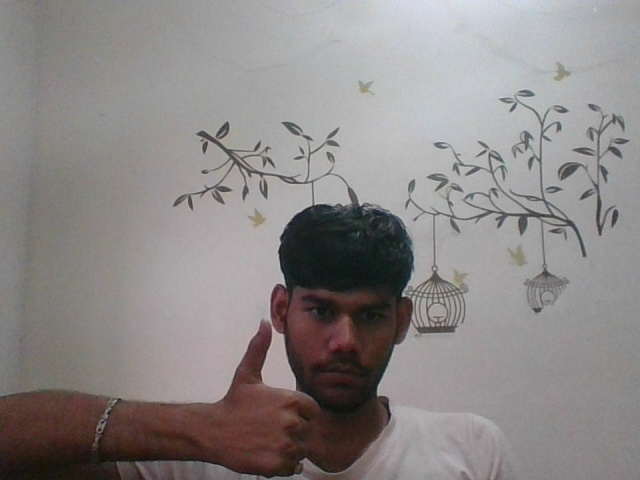Yes: (217, 311, 328, 470)
